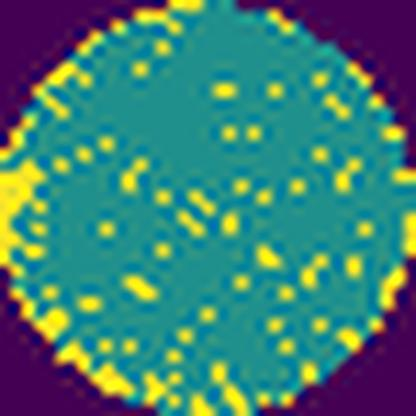Edge-Loc: (0, 155, 50, 279), (60, 348, 135, 402), (9, 292, 67, 340)
